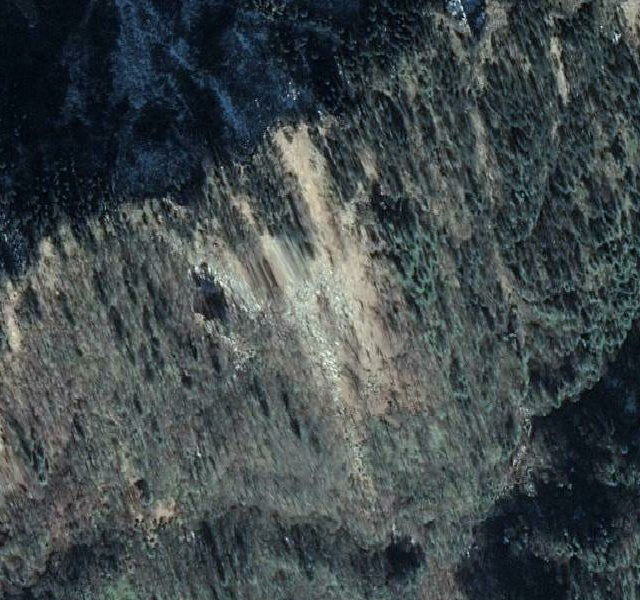slope: (173, 118, 449, 499)
